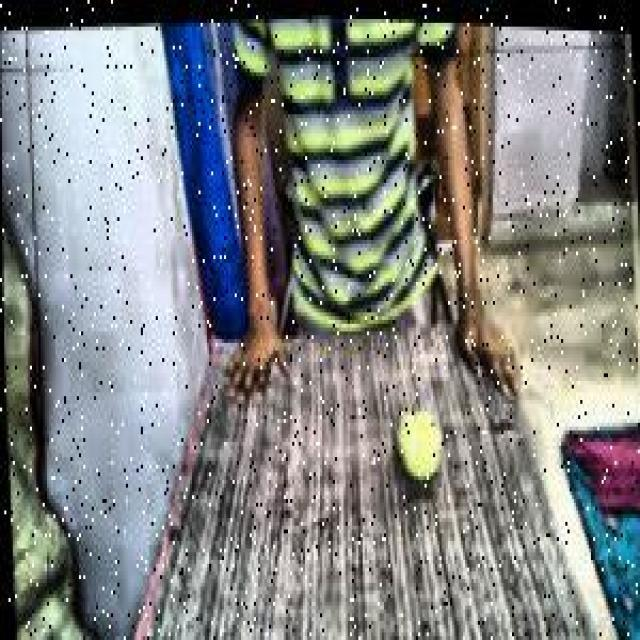tennis-ball: (392, 404, 446, 499)
